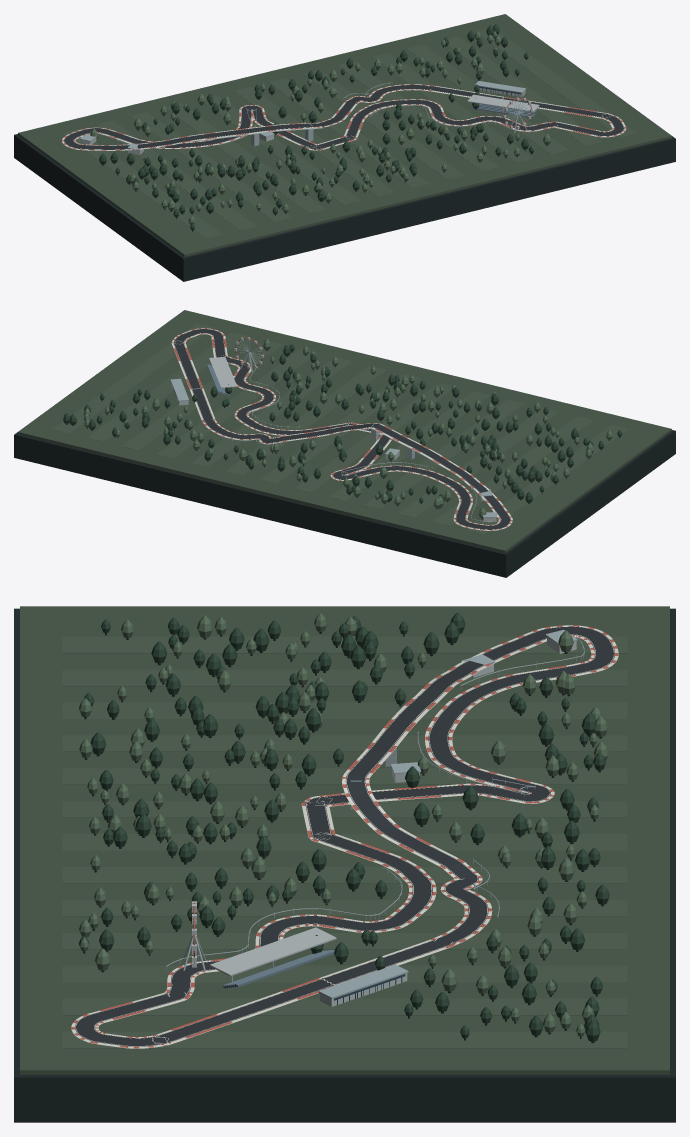
The model's file is suzuka-world.glb.
The picture shows the model from 3 angles, top to bottom: view 1: azimuth 30°, elevation 25°; view 2: azimuth 150°, elevation 25°; view 3: azimuth 270°, elevation 25°; orthographic projection. The views are drawn at different scales.
Parts seen in each view (by area): view 1: Ground, Instances-patch, Solid terrain plinth, Instances-tree, strip-road, Instances-tree2, strip-curb, Instances-trim, Instances-building, Painted kerbs.001, Painted kerbs, Instances-base (+2 smaller); view 2: Ground, Instances-patch, Solid terrain plinth, Instances-tree, strip-road, Instances-tree2, strip-curb, Instances-trim, Instances-building, Painted kerbs.001, Painted kerbs, Instances-base (+2 smaller); view 3: Ground, Instances-patch, Solid terrain plinth, Instances-tree, strip-road, Instances-tree2, strip-curb, Instances-trim, Instances-building, Painted kerbs.001, Painted kerbs, strip-curb.002 (+3 smaller).
Boxes of the visible parts, x1=… form: Ground: x1=18, y1=14, x2=671, y2=256; Instances-patch: x1=61, y1=29, x2=637, y2=238; Solid terrain plinth: x1=14, y1=15, x2=675, y2=281; Instances-tree: x1=99, y1=24, x2=533, y2=230; strip-road: x1=64, y1=84, x2=624, y2=149; Instances-tree2: x1=90, y1=31, x2=550, y2=224; strip-curb: x1=62, y1=84, x2=626, y2=150; Instances-trim: x1=79, y1=81, x2=530, y2=150; Instances-building: x1=81, y1=87, x2=539, y2=154; Painted kerbs.001: x1=74, y1=84, x2=626, y2=150; Painted kerbs: x1=62, y1=89, x2=614, y2=150; Instances-base: x1=102, y1=37, x2=547, y2=231; Ground: x1=18, y1=310, x2=671, y2=552; Instances-patch: x1=52, y1=323, x2=628, y2=534; Solid terrain plinth: x1=14, y1=311, x2=675, y2=577; Instances-tree: x1=63, y1=344, x2=622, y2=502; strip-road: x1=173, y1=329, x2=510, y2=529; Instances-tree2: x1=83, y1=339, x2=612, y2=518; strip-curb: x1=171, y1=328, x2=512, y2=530; Instances-trim: x1=170, y1=338, x2=496, y2=523; Instances-building: x1=171, y1=337, x2=496, y2=521; Painted kerbs.001: x1=172, y1=328, x2=500, y2=525; Painted kerbs: x1=172, y1=333, x2=512, y2=530; Instances-base: x1=66, y1=350, x2=620, y2=519; Ground: x1=20, y1=606, x2=669, y2=1074; Instances-patch: x1=62, y1=636, x2=627, y2=1048; Solid terrain plinth: x1=14, y1=608, x2=675, y2=1122; Instances-tree: x1=79, y1=612, x2=609, y2=1041; strip-road: x1=75, y1=626, x2=614, y2=1046; Instances-tree2: x1=78, y1=613, x2=608, y2=1036; strip-curb: x1=71, y1=625, x2=618, y2=1048; Instances-trim: x1=166, y1=629, x2=584, y2=999; Instances-building: x1=192, y1=637, x2=576, y2=1006; Painted kerbs.001: x1=71, y1=635, x2=594, y2=1048; Painted kerbs: x1=95, y1=625, x2=618, y2=1043; strip-curb.002: x1=75, y1=634, x2=595, y2=1046.
Size of the model in its own units: 114 by 12.6 by 68.
